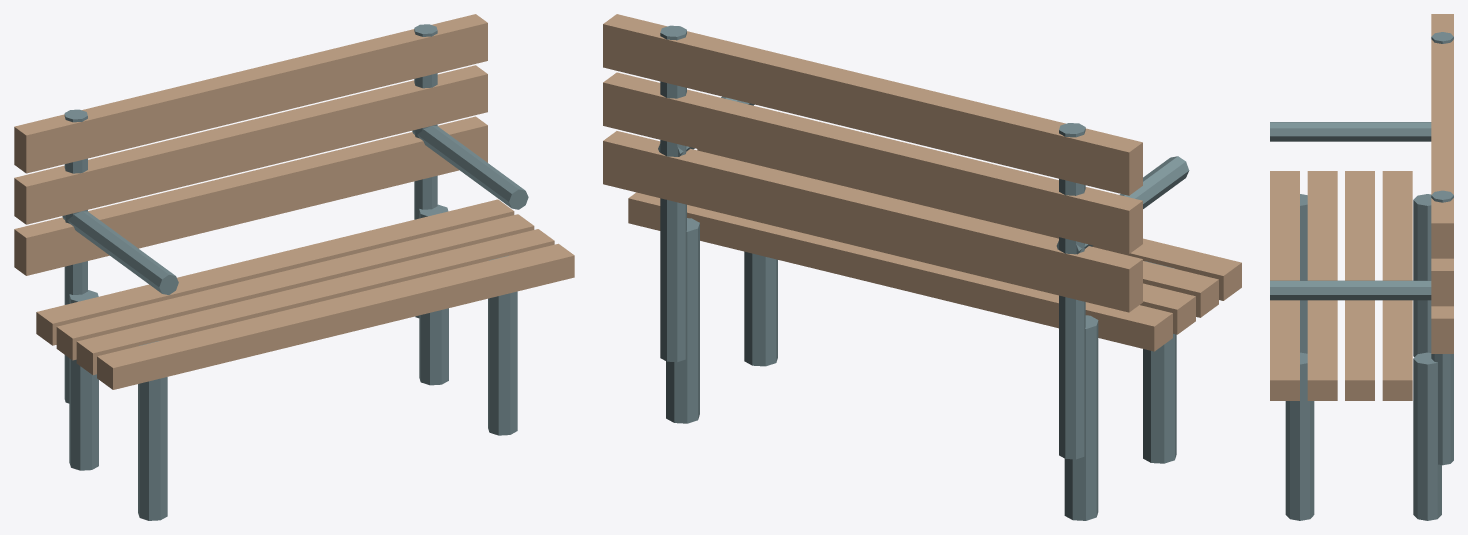
File: remaster_decor_bench.glb
3 views of the same model, side by side, from view 1: azimuth 30°, elevation 25°; view 2: azimuth 150°, elevation 25°; view 3: azimuth 270°, elevation 25° (orthographic). The views are drawn at different scales.
Parts seen in each view (by area): view 1: Backrest slat.005, Backrest slat.004, Backrest slat.003, Timber seat slat.004, Timber seat slat.006, Timber seat slat.005, Timber seat slat.007, Cast iron leg.004, Cast iron leg.006, Cast iron leg.005, Armrest.002, Armrest.003 (+3 smaller); view 2: Backrest slat.005, Backrest slat.004, Backrest slat.003, Timber seat slat.007, Backrest support.003, Backrest support.002, Cast iron leg.005, Cast iron leg.007, Cast iron leg.004, Cast iron leg.006, Timber seat slat.004, Timber seat slat.005 (+2 smaller); view 3: Timber seat slat.005, Timber seat slat.007, Timber seat slat.004, Timber seat slat.006, Backrest slat.005, Cast iron leg.007, Cast iron leg.006, Armrest.003, Armrest.002, Cast iron leg.005, Backrest support.003, Backrest slat.004 (+3 smaller).
Boxes of the visible parts, <box> form: Backrest slat.005: <box>14,14,487,173</box>; Backrest slat.004: <box>14,65,487,224</box>; Backrest slat.003: <box>14,116,487,275</box>; Timber seat slat.004: <box>97,243,574,389</box>; Timber seat slat.006: <box>56,214,534,360</box>; Timber seat slat.005: <box>76,229,554,375</box>; Timber seat slat.007: <box>36,199,514,345</box>; Cast iron leg.004: <box>138,341,167,520</box>; Cast iron leg.006: <box>488,255,517,435</box>; Cast iron leg.005: <box>69,290,98,470</box>; Armrest.002: <box>62,211,178,294</box>; Armrest.003: <box>412,126,528,209</box>; Backrest slat.005: <box>603,14,1142,195</box>; Backrest slat.004: <box>603,72,1142,253</box>; Backrest slat.003: <box>603,131,1142,312</box>; Timber seat slat.007: <box>628,192,1172,351</box>; Backrest support.003: <box>660,25,686,362</box>; Backrest support.002: <box>1059,123,1085,459</box>; Cast iron leg.005: <box>1064,315,1098,520</box>; Cast iron leg.007: <box>666,218,699,423</box>; Cast iron leg.004: <box>1143,261,1176,463</box>; Cast iron leg.006: <box>744,251,777,366</box>; Timber seat slat.004: <box>697,149,1241,300</box>; Timber seat slat.005: <box>1143,261,1218,317</box>; Timber seat slat.005: <box>1307,171,1337,400</box>; Timber seat slat.007: <box>1382,171,1412,400</box>; Timber seat slat.004: <box>1270,171,1299,400</box>; Timber seat slat.006: <box>1345,171,1374,400</box>; Backrest slat.005: <box>1431,14,1453,258</box>; Cast iron leg.007: <box>1413,352,1441,520</box>; Cast iron leg.006: <box>1285,352,1314,520</box>; Armrest.003: <box>1270,280,1431,300</box>; Armrest.002: <box>1270,122,1431,141</box>; Cast iron leg.005: <box>1413,194,1431,356</box>; Backrest support.003: <box>1431,190,1453,465</box>; Backrest slat.004: <box>1431,258,1453,306</box>.
Bounding box in the file's own units: 3.3 × 2.35 × 1.23.
